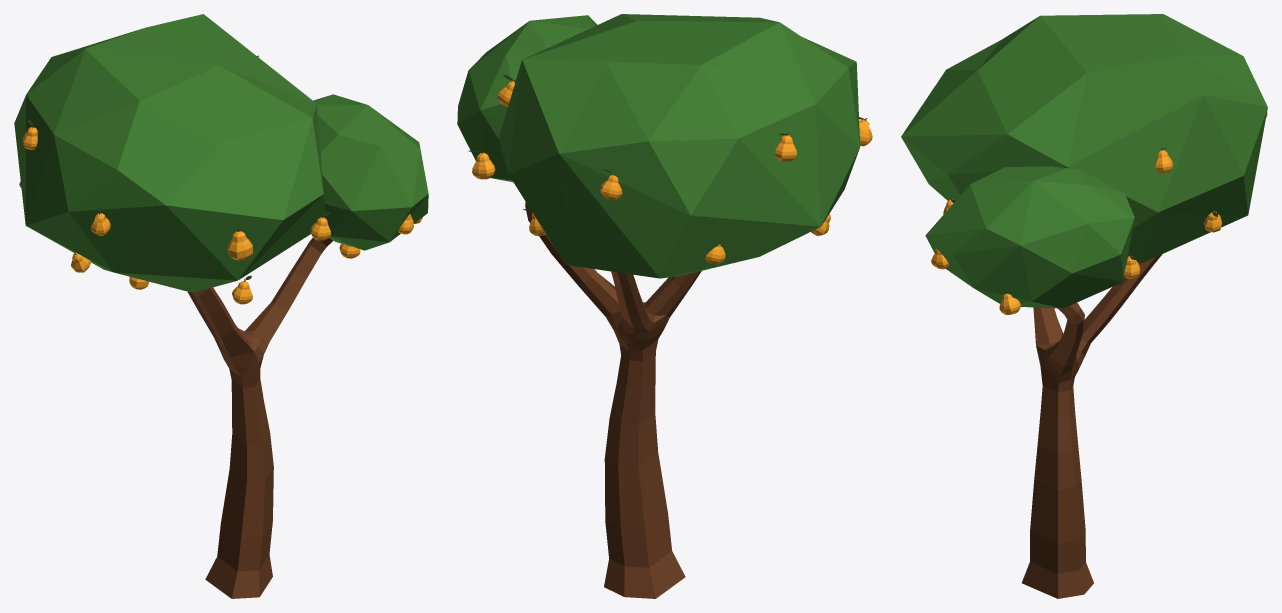
Rendered from TreePear_2.fbx.
3 renders of one model, left to right at view 1: azimuth 30°, elevation 25°; view 2: azimuth 150°, elevation 25°; view 3: azimuth 270°, elevation 25°, orthographic. The views are drawn at different scales.
Visible parts, largest first — view 1: TreePear_2; view 2: TreePear_2; view 3: TreePear_2.
Part boxes in pixels (box(x1,y1,x2,y2)): TreePear_2: box(14, 14, 428, 598); TreePear_2: box(457, 14, 872, 598); TreePear_2: box(901, 14, 1267, 598).
Size of the model in its own units: 249 by 361 by 231.
